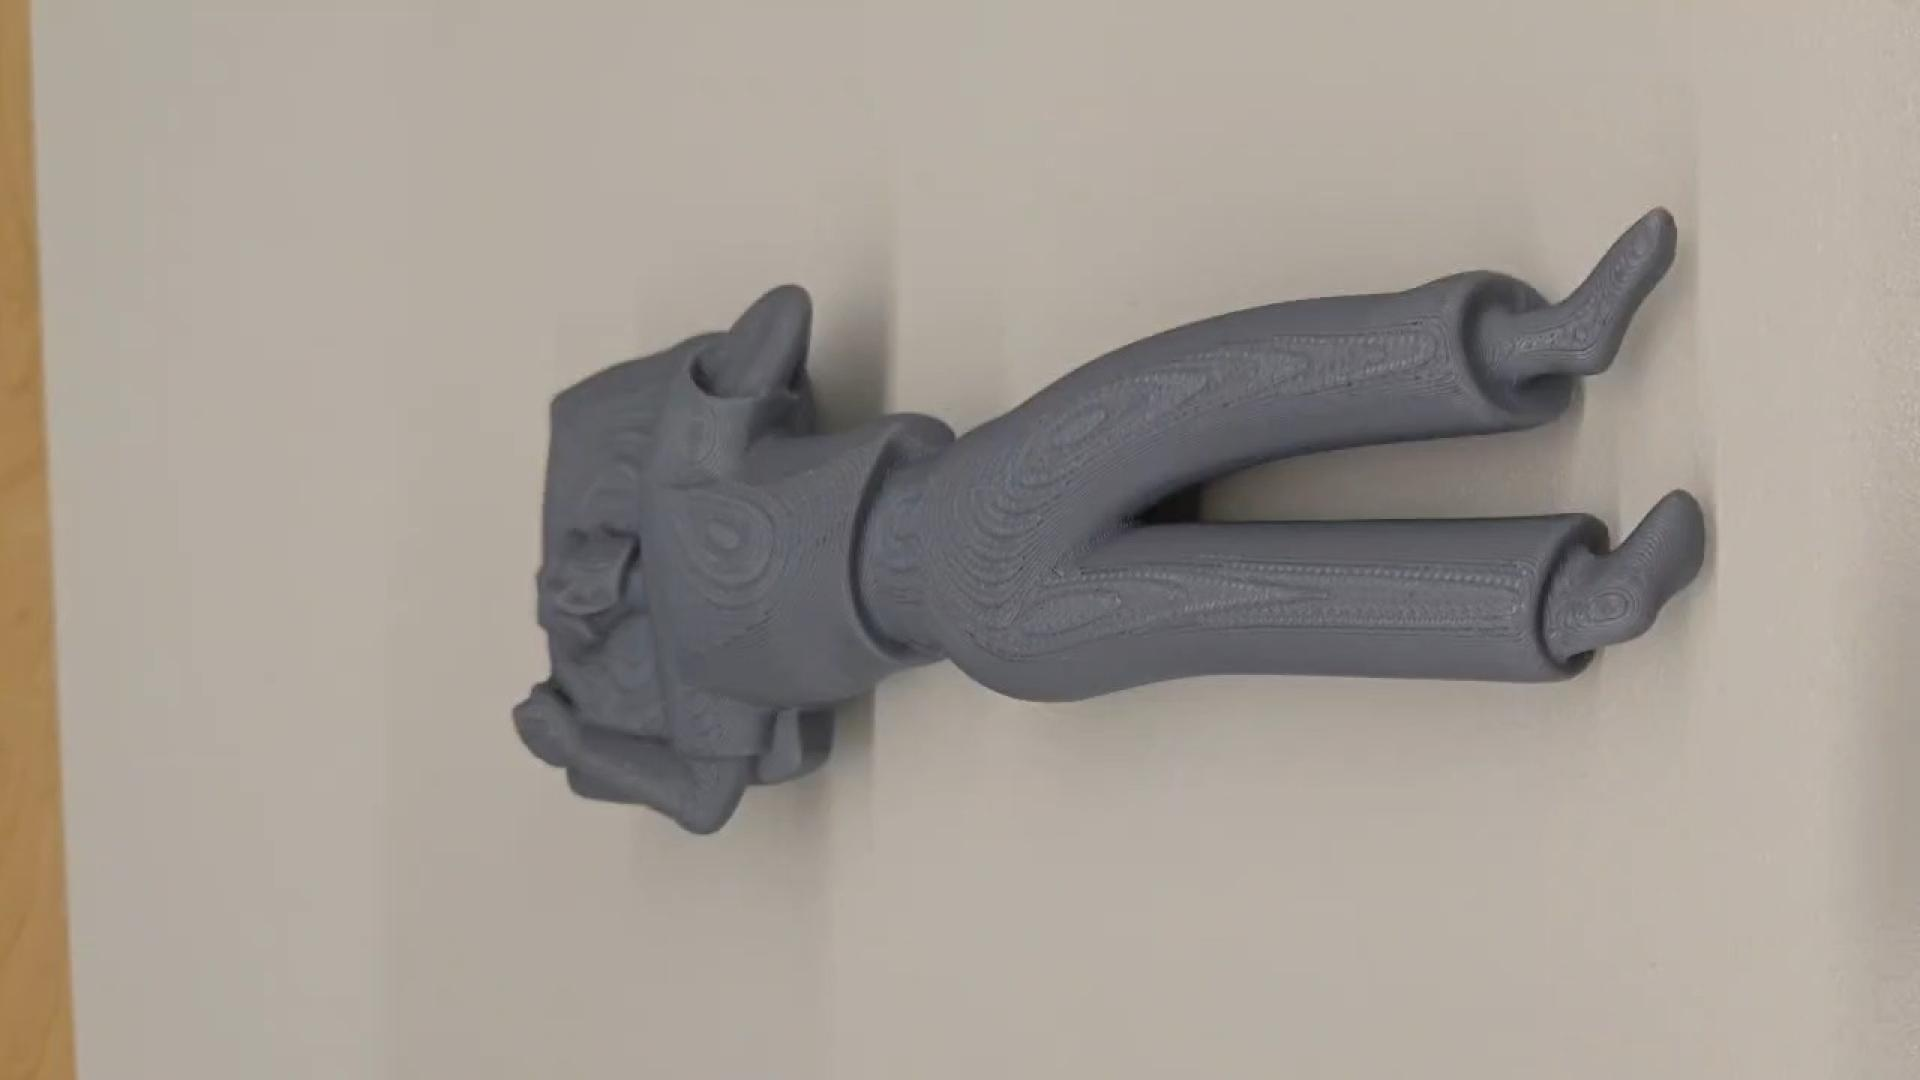Bad-style: (506, 207, 1714, 836)
